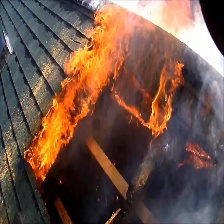fire: (22, 2, 202, 182)
